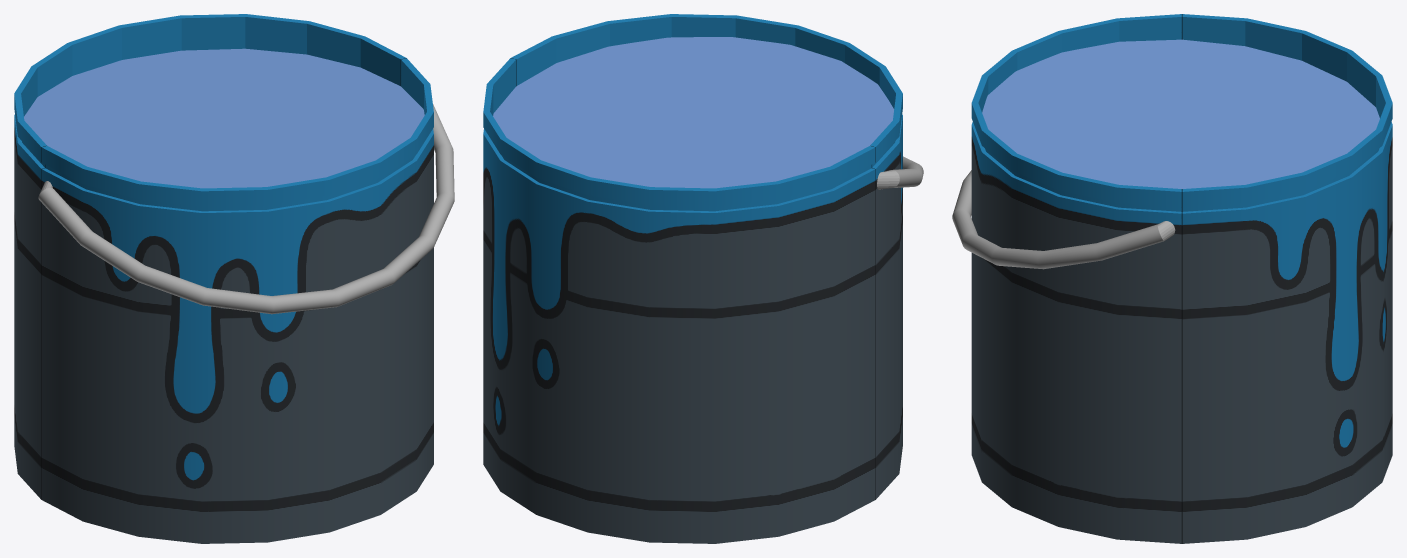
Rendered from paintBucket_Blue.fbx.
3 views of the same model, side by side, from view 1: azimuth 30°, elevation 25°; view 2: azimuth 150°, elevation 25°; view 3: azimuth 270°, elevation 25° (orthographic).
Parts seen in each view (by area): view 1: paintBucket, paintMesh, bucketHandle; view 2: paintBucket, paintMesh, bucketHandle; view 3: paintBucket, paintMesh, bucketHandle.
Boxes of the visible parts, left/top/right/bottom form: paintBucket: left=14, top=14, right=433, bottom=543; paintMesh: left=24, top=48, right=424, bottom=188; bucketHandle: left=38, top=104, right=454, bottom=314; paintBucket: left=483, top=14, right=902, bottom=543; paintMesh: left=493, top=37, right=894, bottom=188; bucketHandle: left=877, top=156, right=923, bottom=189; paintBucket: left=971, top=14, right=1392, bottom=543; paintMesh: left=982, top=39, right=1379, bottom=188; bucketHandle: left=952, top=170, right=1175, bottom=269.
Bounding box in the file's own units: 1.32 × 1.13 × 1.28.
Materials: 3 (1 with a texture image).
